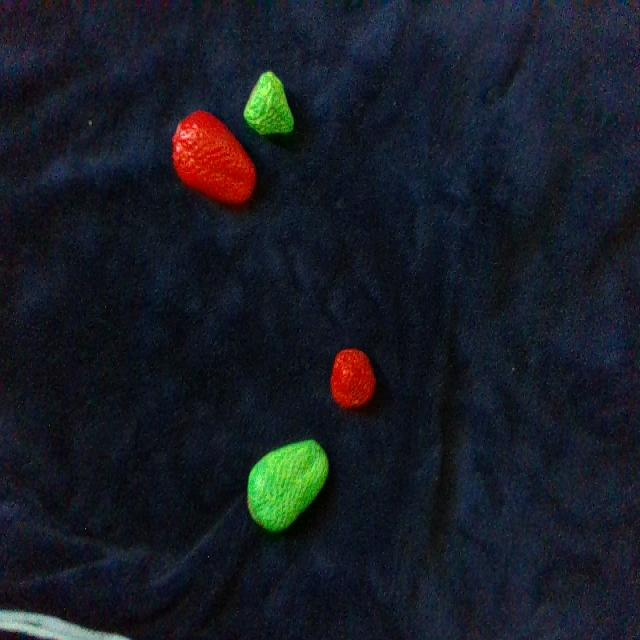chica_roja: (330, 349, 375, 408)
grande_roja: (173, 111, 256, 203)
verde: (248, 440, 328, 531), (244, 73, 293, 133)
